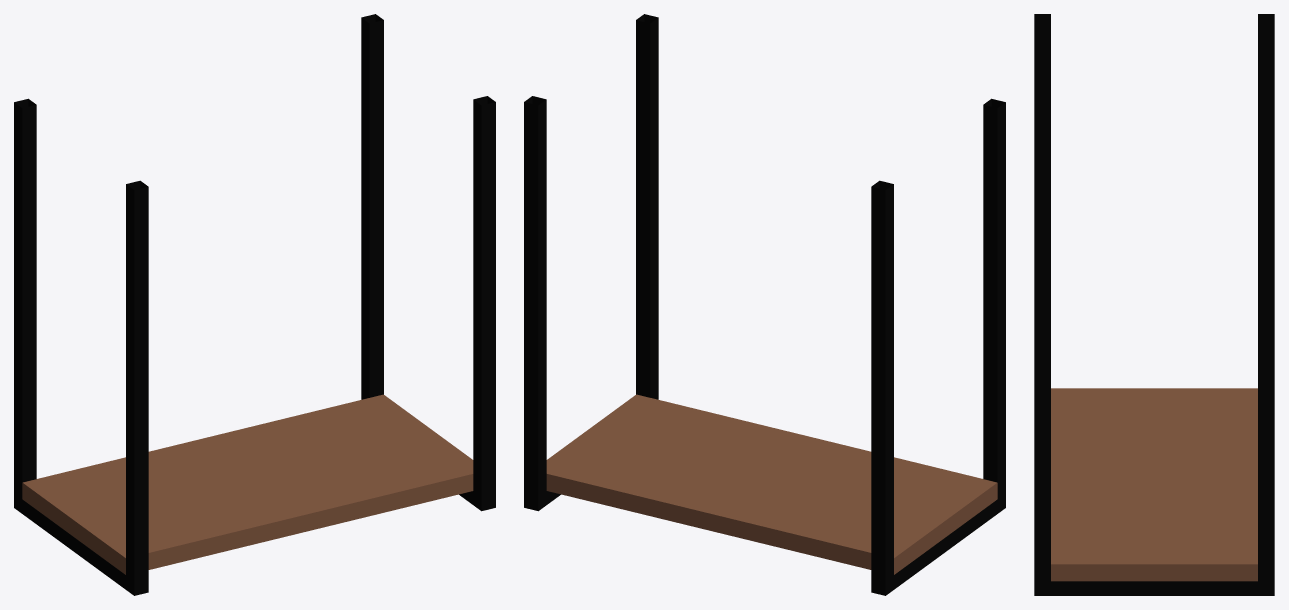
Rendered from Hanger.fbx.
3 renders of one model, left to right at view 1: azimuth 30°, elevation 25°; view 2: azimuth 150°, elevation 25°; view 3: azimuth 270°, elevation 25°, orthographic.
Visible parts, largest first — view 1: Hanger; view 2: Hanger; view 3: Hanger.
Boxes of the visible parts, x1,y1,x2,y2 form: Hanger: (14,14,495,595); Hanger: (524,14,1005,595); Hanger: (1034,14,1274,595).
Size of the model in its own units: 1.36 by 1.46 by 0.7844.
